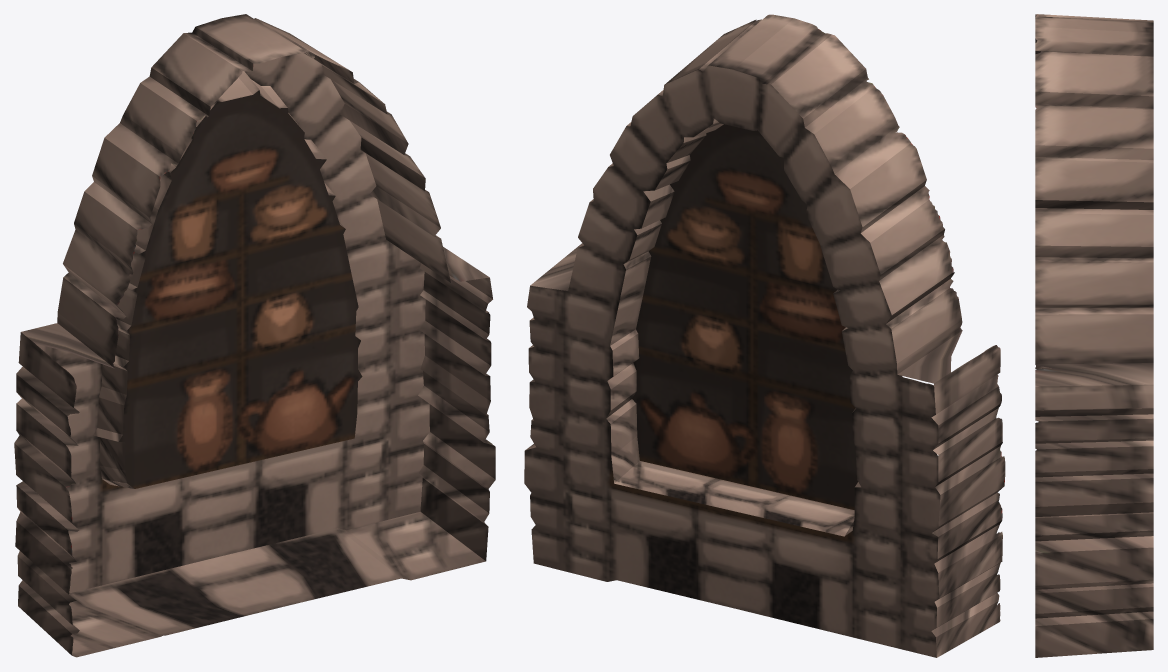
The model's file is Item4.fbx.
3 views of the same model, side by side, from view 1: azimuth 30°, elevation 25°; view 2: azimuth 150°, elevation 25°; view 3: azimuth 270°, elevation 25° (orthographic). The views are drawn at different scales.
Parts seen in each view (by area): view 1: Plane; view 2: Plane; view 3: Plane.
Part boxes in pixels (box(x1,y1,x2,y2)): Plane: box(14, 14, 495, 657); Plane: box(524, 14, 1005, 657); Plane: box(1035, 14, 1153, 657).
Size of the model in its own units: 2.37 by 0.5908 by 2.96.
